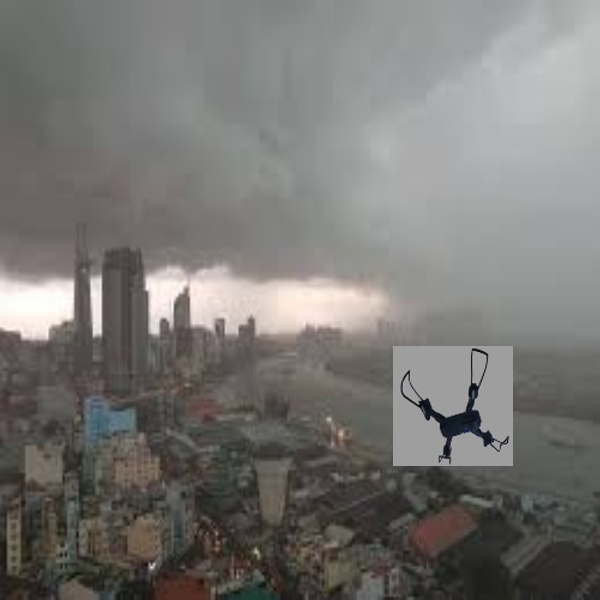drone: (396, 345, 510, 465)
